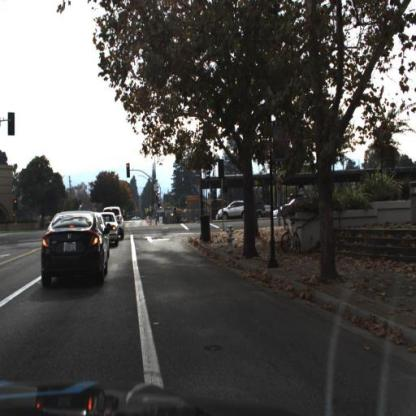car: (41, 210, 108, 287), (103, 202, 126, 240), (216, 201, 243, 225)
trafficLight-Red: (126, 162, 130, 178), (154, 191, 158, 201)
trafficLight-RedLeft: (12, 198, 18, 209)
